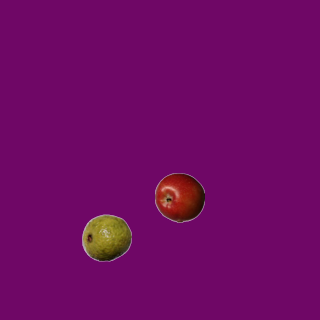Apple Braeburn: (154, 172, 204, 222)
Guava: (81, 212, 131, 262)
